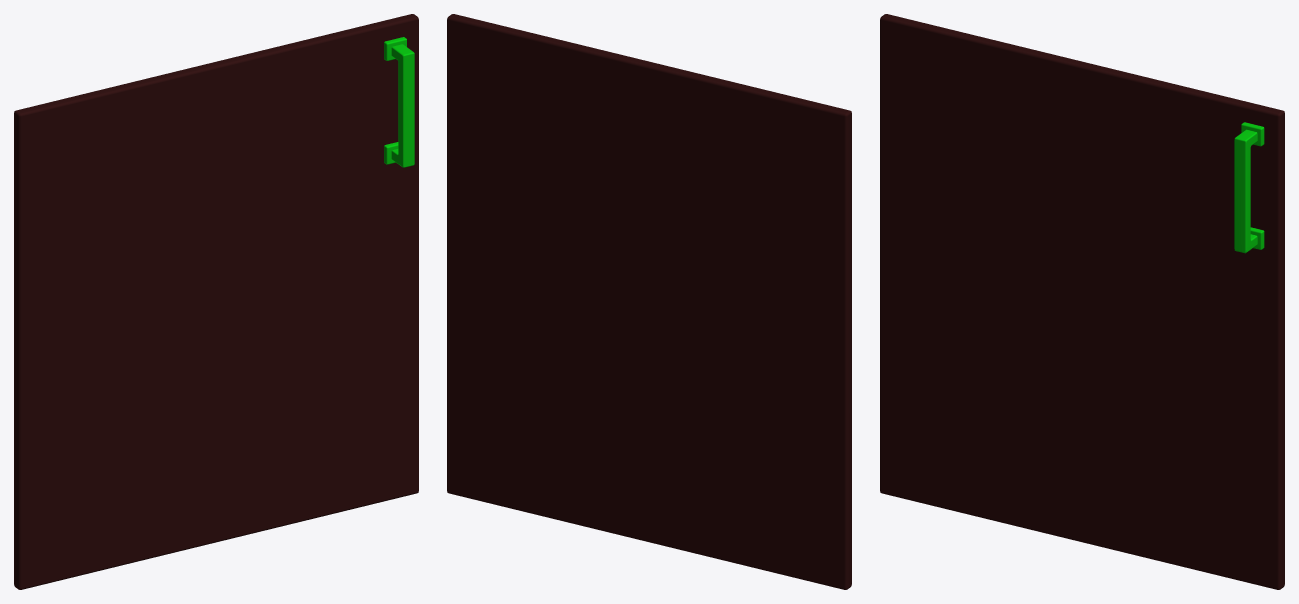
The model's file is kuchnia_05_szafka_stojaca_drzwi.fbx.
3 views of the same model, side by side, from view 1: azimuth 30°, elevation 25°; view 2: azimuth 150°, elevation 25°; view 3: azimuth 330°, elevation 25° (orthographic).
Visible parts, largest first — view 1: Mesh; view 2: Mesh; view 3: Mesh.
Boxes of the visible parts, box(x1,y1,x2,y2) form: Mesh: box(14, 14, 418, 589); Mesh: box(447, 14, 851, 589); Mesh: box(880, 14, 1284, 589).
Size of the model in its own units: 80 by 90.98 by 7.21.
